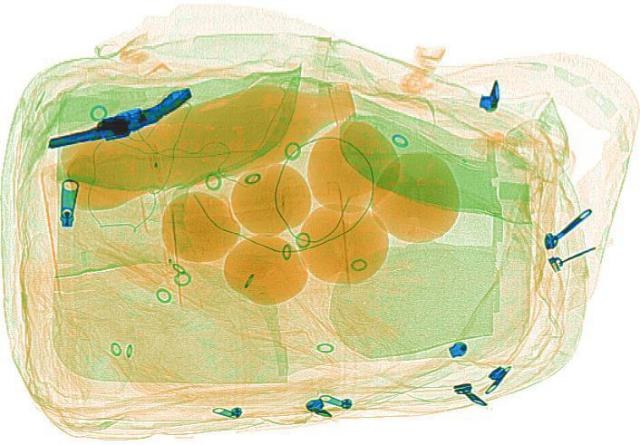Gun: (38, 84, 208, 160)
